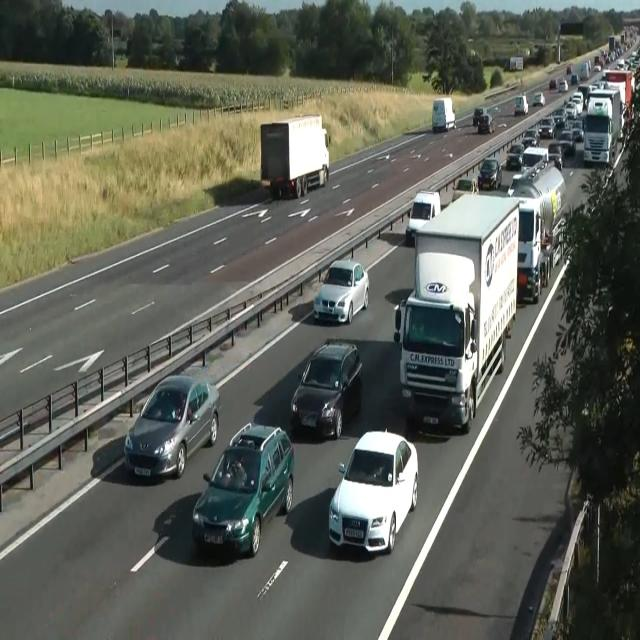bus: (192, 422, 294, 558), (328, 428, 418, 554), (123, 373, 221, 480), (313, 260, 369, 324), (405, 189, 441, 242), (477, 157, 501, 190), (452, 178, 478, 202), (506, 143, 524, 171), (557, 129, 576, 155), (548, 142, 564, 170), (522, 128, 540, 148), (551, 108, 568, 127), (570, 91, 584, 113), (478, 114, 494, 133), (571, 120, 584, 142), (564, 101, 579, 119), (473, 107, 487, 125), (532, 92, 545, 106), (558, 78, 568, 92), (548, 77, 556, 90), (570, 73, 578, 84), (594, 64, 600, 72)
car: (506, 160, 566, 244)
jeep: (289, 337, 363, 439)
minibus: (393, 192, 519, 433), (260, 113, 330, 200), (507, 195, 543, 303), (582, 86, 622, 166), (432, 97, 455, 132), (514, 93, 528, 115), (509, 57, 524, 71)
